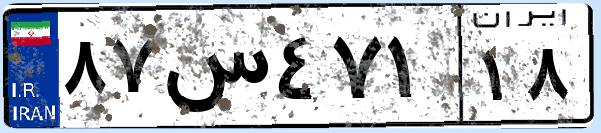1: (385, 28, 445, 110), (475, 38, 525, 113)
4: (270, 28, 330, 110)
7: (330, 28, 385, 110), (110, 28, 158, 98)
8: (57, 26, 110, 100), (525, 38, 570, 115)
س: (158, 20, 270, 120)
